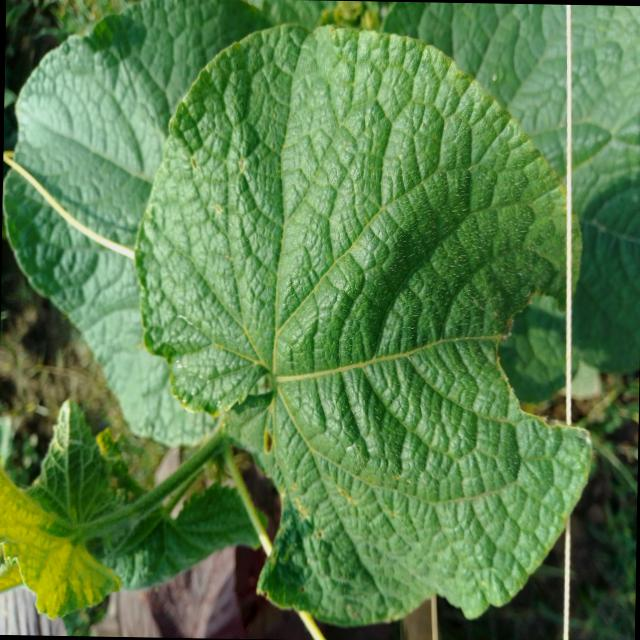cucumber_healthy: (123, 19, 604, 635), (0, 0, 261, 446), (0, 395, 269, 639), (510, 3, 640, 401)
